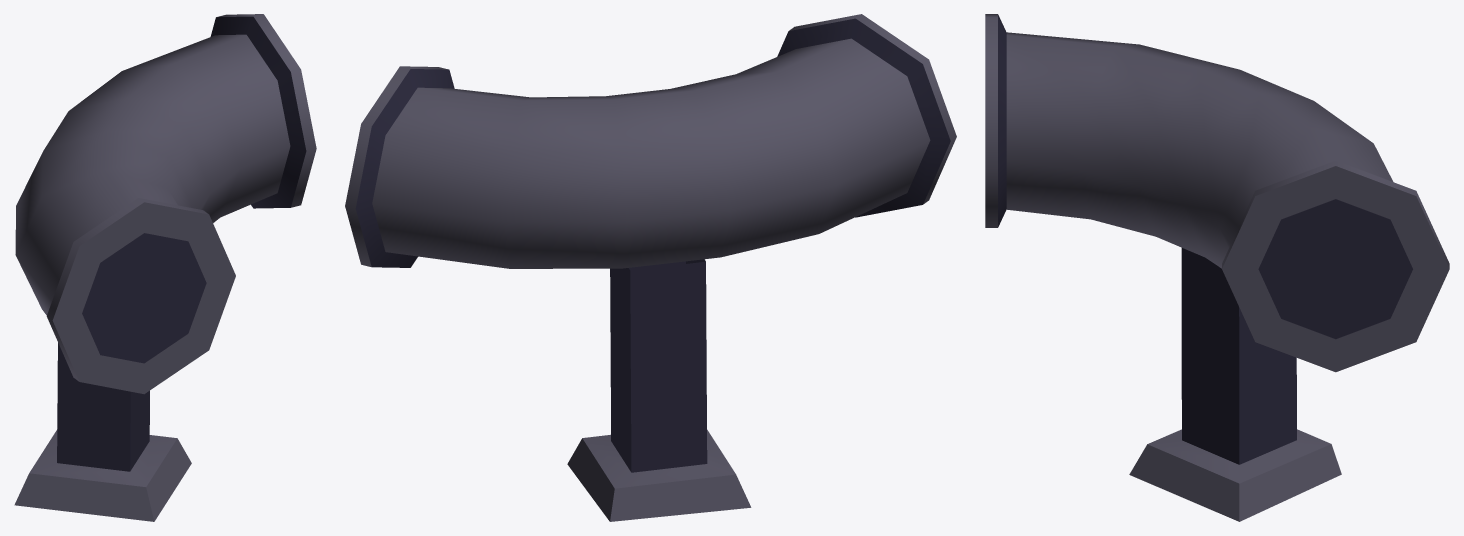
The model's file is PipeCorner.fbx.
3 renders of one model, left to right at view 1: azimuth 30°, elevation 25°; view 2: azimuth 150°, elevation 25°; view 3: azimuth 270°, elevation 25°, orthographic. The views are drawn at different scales.
Visible parts, largest first — view 1: PipeCorner; view 2: PipeCorner; view 3: PipeCorner.
Part boxes in pixels (x1=…): PipeCorner: x1=14, y1=14, x2=316, y2=521; PipeCorner: x1=345, y1=14, x2=956, y2=521; PipeCorner: x1=985, y1=14, x2=1449, y2=521.
Size of the model in its own units: 66.25 by 65.66 by 66.25.
